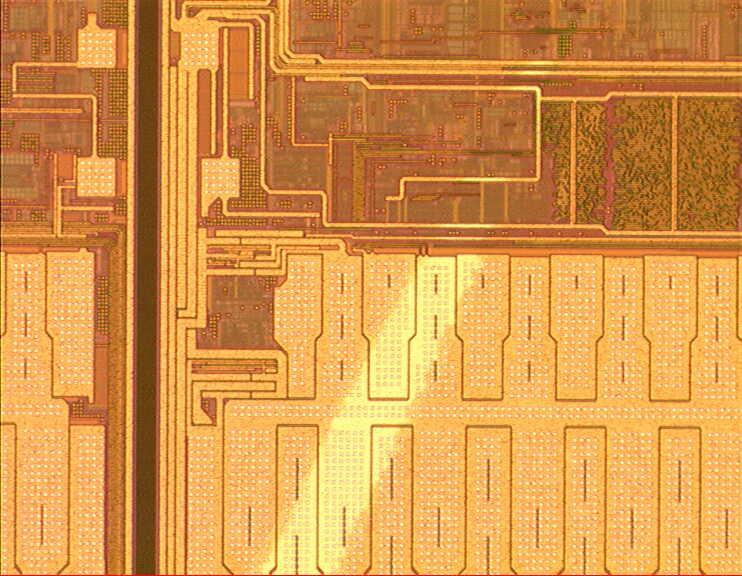COATING BAD: (239, 1, 678, 575)
